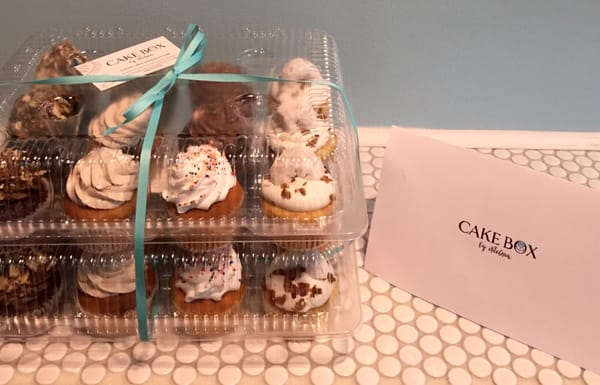sushi: (261, 147, 336, 214)
